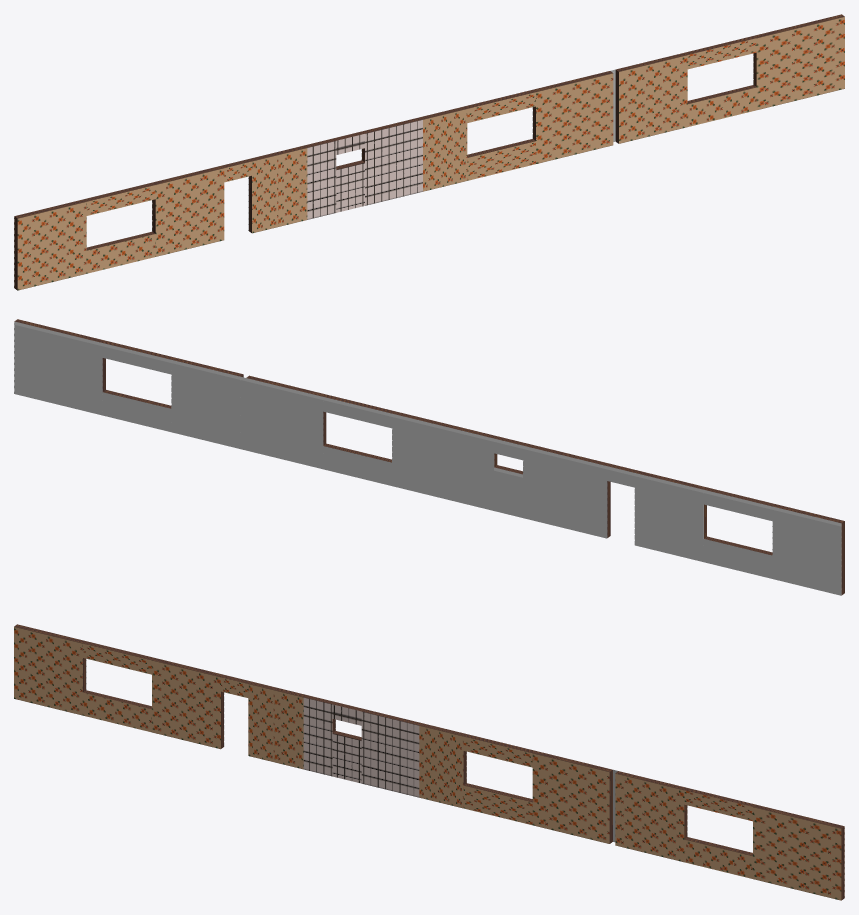
The model's file is Paredes_Externas_Superiores.obj.
3 renders of one model, top to bottom at view 1: azimuth 30°, elevation 25°; view 2: azimuth 150°, elevation 25°; view 3: azimuth 330°, elevation 25°, orthographic.
Visible parts, largest first — view 1: Paredes_Externas_Superiores; view 2: Paredes_Externas_Superiores; view 3: Paredes_Externas_Superiores.
Part boxes in pixels (bbox=[...]): Paredes_Externas_Superiores: bbox=[14, 14, 844, 290]; Paredes_Externas_Superiores: bbox=[14, 319, 844, 595]; Paredes_Externas_Superiores: bbox=[14, 624, 844, 900].
Bounding box in the file's own units: 18.75 × 1.56 × 0.1425.
Materials: 2 (1 with a texture image).
